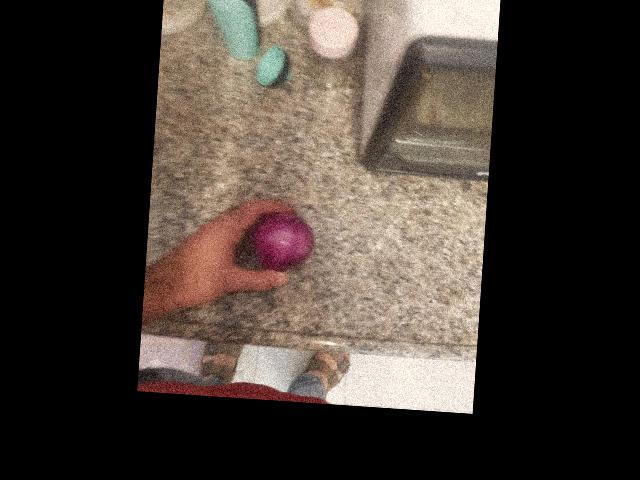onion: (411, 133, 497, 221)
